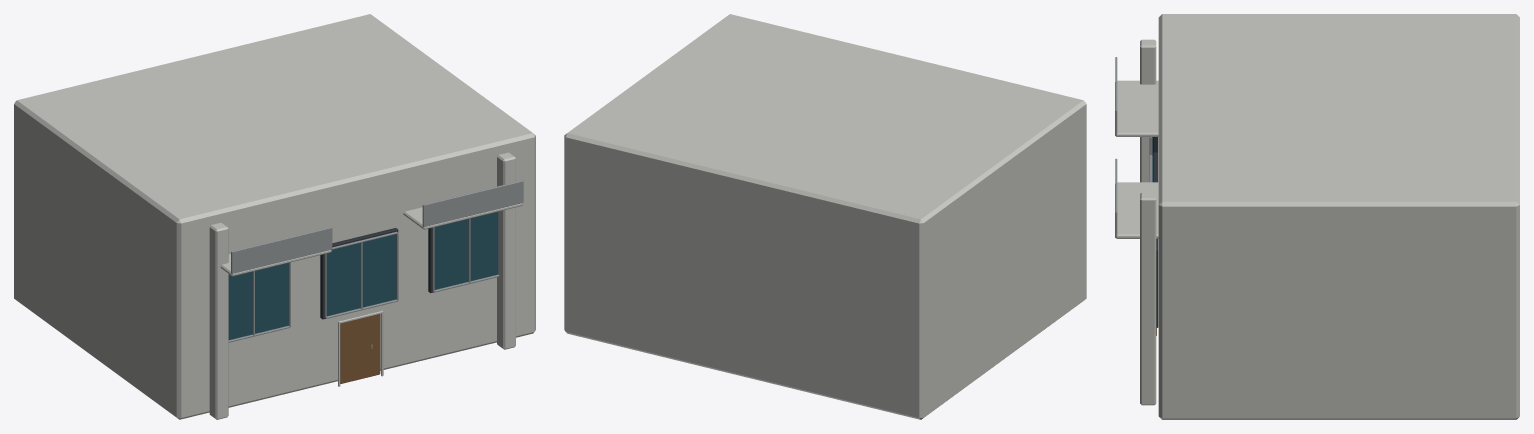
Rendered from Coastal_Villa.glb.
The picture shows the model from 3 angles, left to right: view 1: azimuth 30°, elevation 25°; view 2: azimuth 150°, elevation 25°; view 3: azimuth 270°, elevation 25°; orthographic projection. The views are drawn at different scales.
Parts seen in each view (by area): view 1: Concrete_Light, Glass, Trim, Metal, Wood, Metal_Dark; view 2: Concrete_Light; view 3: Concrete_Light, Trim, Metal, Metal_Dark.
Boxes of the visible parts, x1,y1,x2,y2 form: Concrete_Light: (14,14,535,419); Glass: (228,212,498,339); Trim: (209,152,515,419); Metal: (228,180,523,348); Wood: (340,314,380,383); Metal_Dark: (320,228,433,319); Concrete_Light: (564,14,1086,419); Concrete_Light: (1115,14,1519,419); Trim: (1140,39,1156,405); Metal: (1115,57,1152,235); Metal_Dark: (1153,137,1158,327).
Size of the model in its own units: 15 by 8.05 by 13.45.
